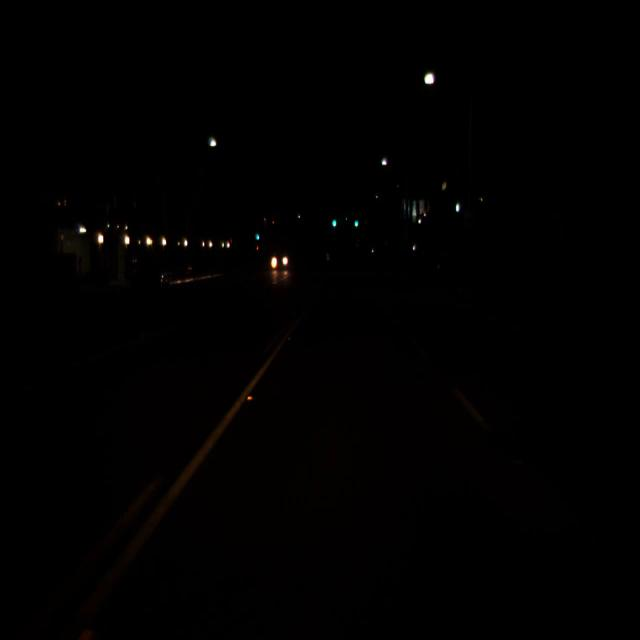go: (333, 220, 336, 224), (355, 221, 358, 224), (257, 236, 259, 240)
go traffic light: (332, 214, 336, 227), (256, 230, 260, 242), (354, 218, 358, 225)
